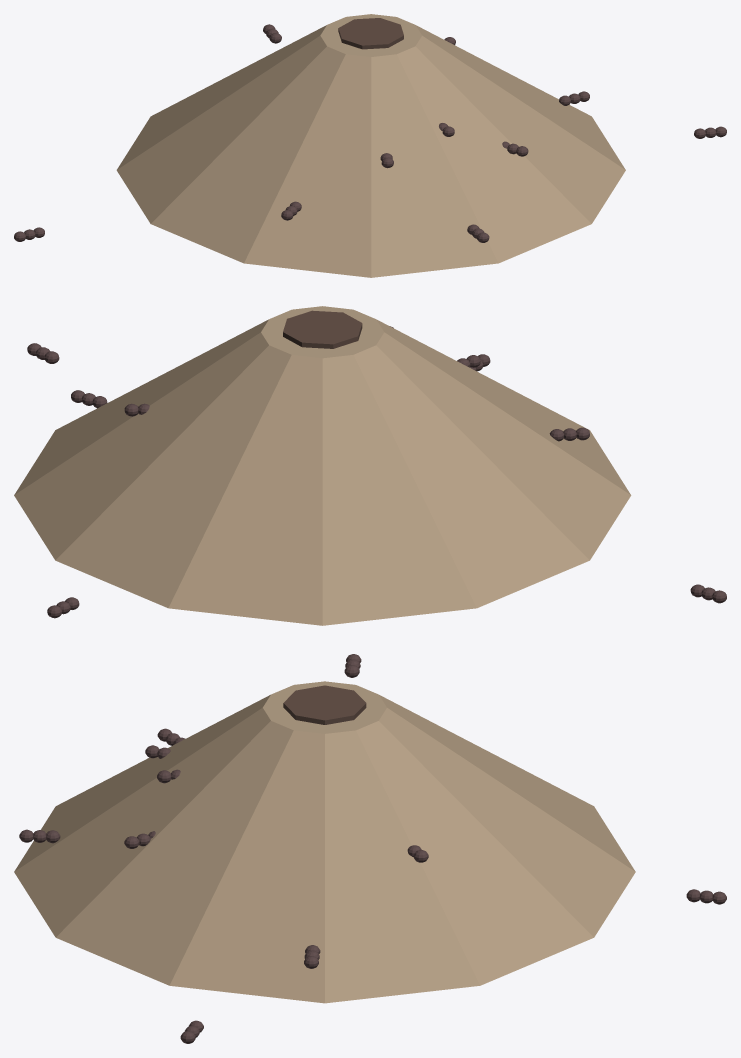
Rendered from AntHill.fbx.
3 renders of one model, top to bottom at view 1: azimuth 30°, elevation 25°; view 2: azimuth 150°, elevation 25°; view 3: azimuth 270°, elevation 25°, orthographic. The views are drawn at different scales.
Visible parts, largest first — view 1: Prop_AntHill; view 2: Prop_AntHill; view 3: Prop_AntHill.
Part boxes in pixels (box(x1,y1,x2,y2)): Prop_AntHill: box(14, 14, 726, 277); Prop_AntHill: box(14, 306, 726, 625); Prop_AntHill: box(14, 654, 726, 1043).
Bounding box in the file's own units: 1.75 × 0.36 × 1.38.
